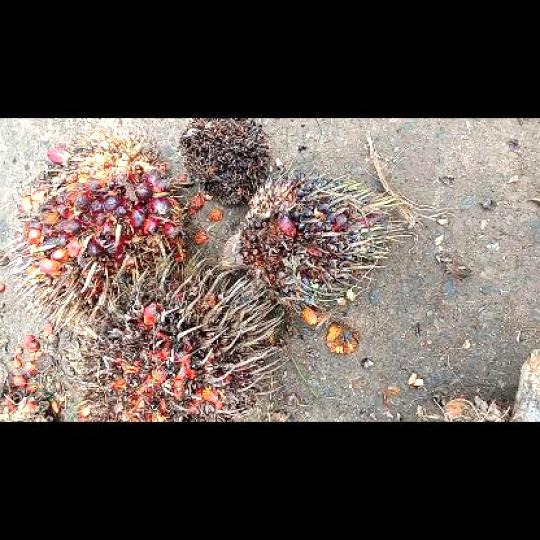masak: (12, 128, 206, 326)
terlalu masak: (68, 268, 288, 420)
